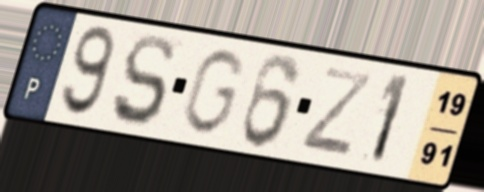1: (368, 71, 413, 169)
6: (238, 50, 302, 153)
9: (59, 22, 120, 121)
G: (178, 46, 248, 138)
S: (109, 32, 177, 130)
Z: (296, 64, 376, 161)
